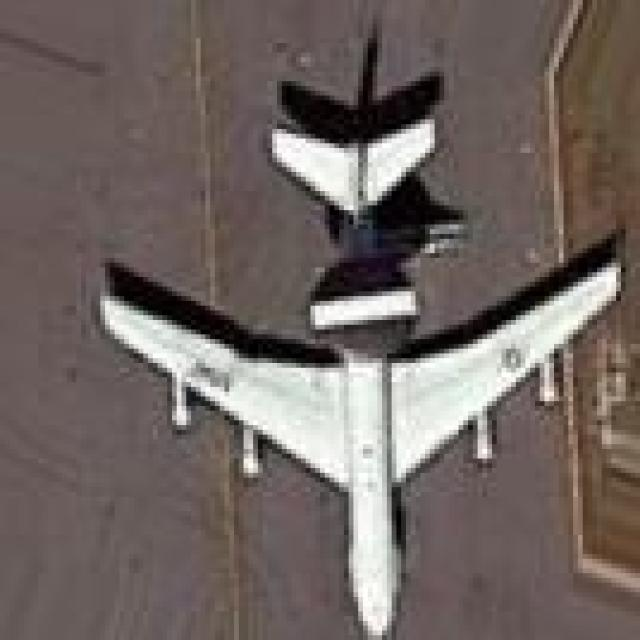E-3_TopDown: (86, 0, 635, 635)
